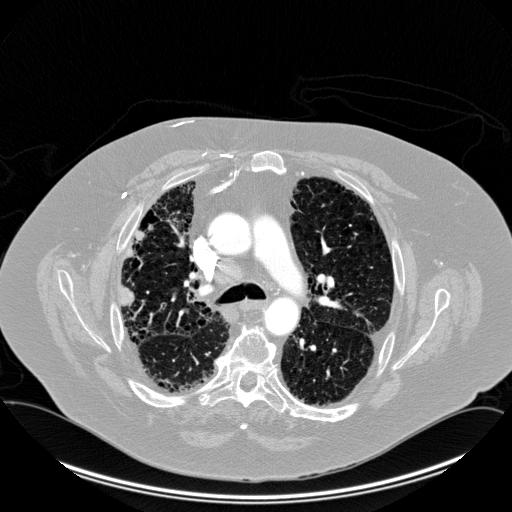nodule: (128, 232, 145, 249)
